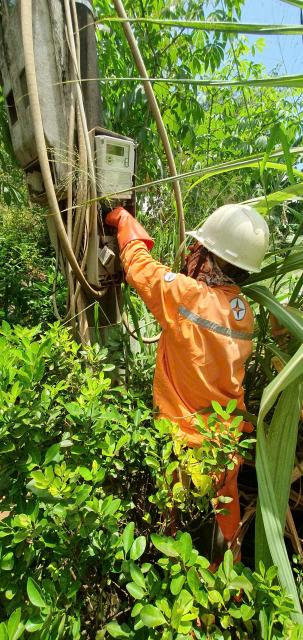gloves: (94, 196, 159, 253)
helmet: (176, 189, 278, 279)
